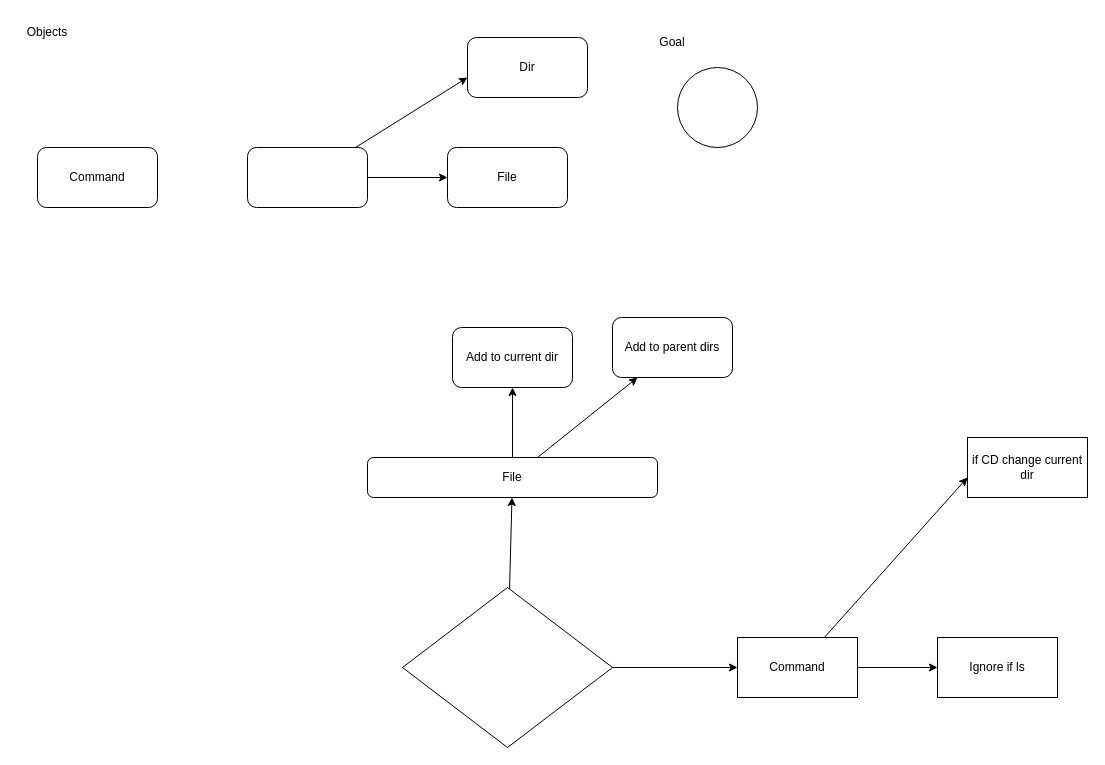
Image size: 1105x765. Some labels were removed from this diagram. The shapes that lost their labels are listed below. From the top down, each one's box as (x1, y1, x2, y2) in pixels, then its label:
(676, 66, 758, 148): Sum of files with max size X
(246, 146, 368, 208): Listed file
(402, 586, 612, 748): Command or file
